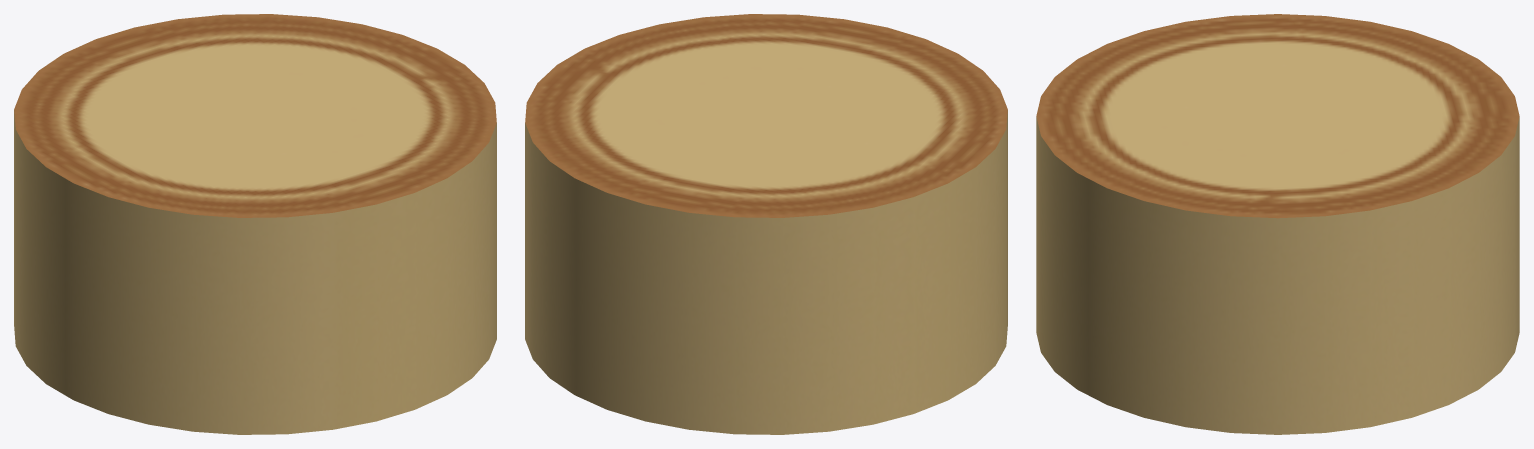
The model's file is centro.fbx.
3 renders of one model, left to right at view 1: azimuth 30°, elevation 25°; view 2: azimuth 150°, elevation 25°; view 3: azimuth 270°, elevation 25°, orthographic.
Parts seen in each view (by area): view 1: centro; view 2: centro; view 3: centro.
Part boxes in pixels (bbox=[...]): centro: bbox=[14, 14, 496, 434]; centro: bbox=[525, 14, 1007, 434]; centro: bbox=[1036, 14, 1519, 434].
Size of the model in its own units: 571 by 282 by 571.
